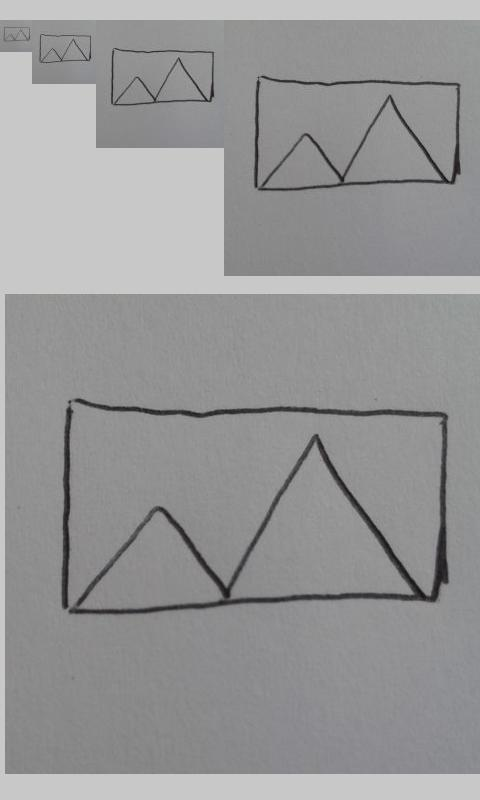image_view: (61, 395, 450, 622), (250, 74, 462, 197), (111, 46, 216, 107), (39, 34, 92, 64), (3, 26, 31, 42)
